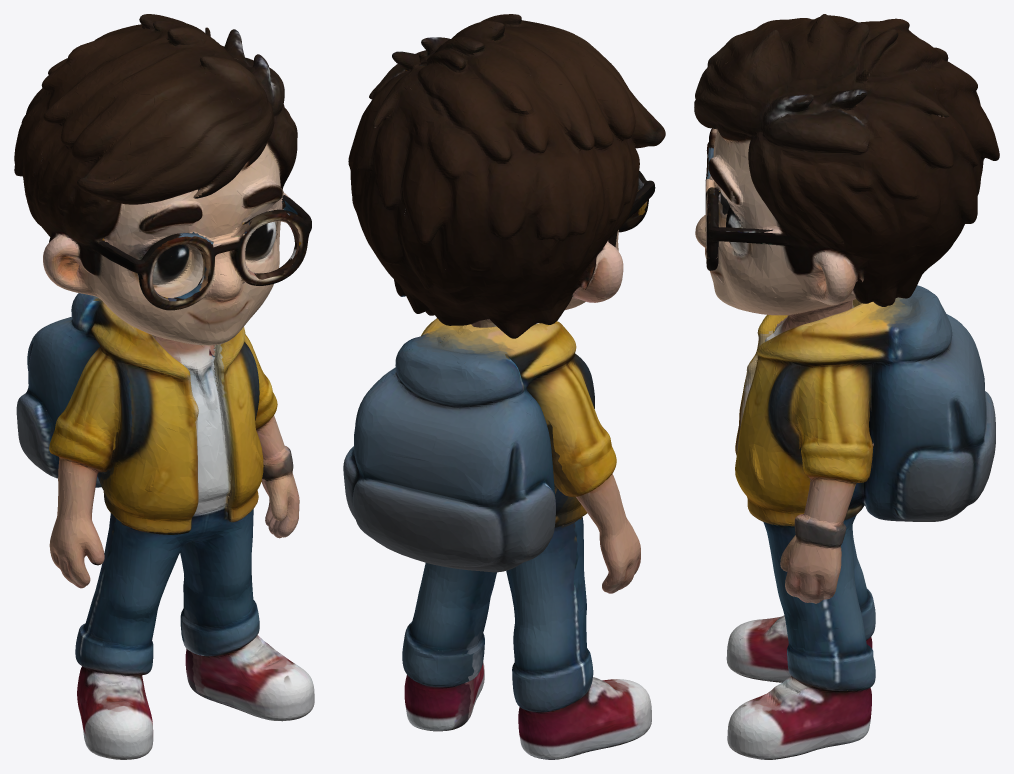
Rendered from boy_2_with_texture.glb.
3 views of the same model, side by side, from view 1: azimuth 30°, elevation 25°; view 2: azimuth 150°, elevation 25°; view 3: azimuth 270°, elevation 25° (orthographic). The views are drawn at different scales.
Parts seen in each view (by area): view 1: world; view 2: world; view 3: world.
Boxes of the visible parts, x1,y1,x2,y2 form: world: (14, 14, 314, 759); world: (343, 14, 665, 759); world: (694, 14, 999, 759).
Bounding box in the file's own units: 0.7425 × 1.99 × 0.7946.
1 material, 1 textured.
